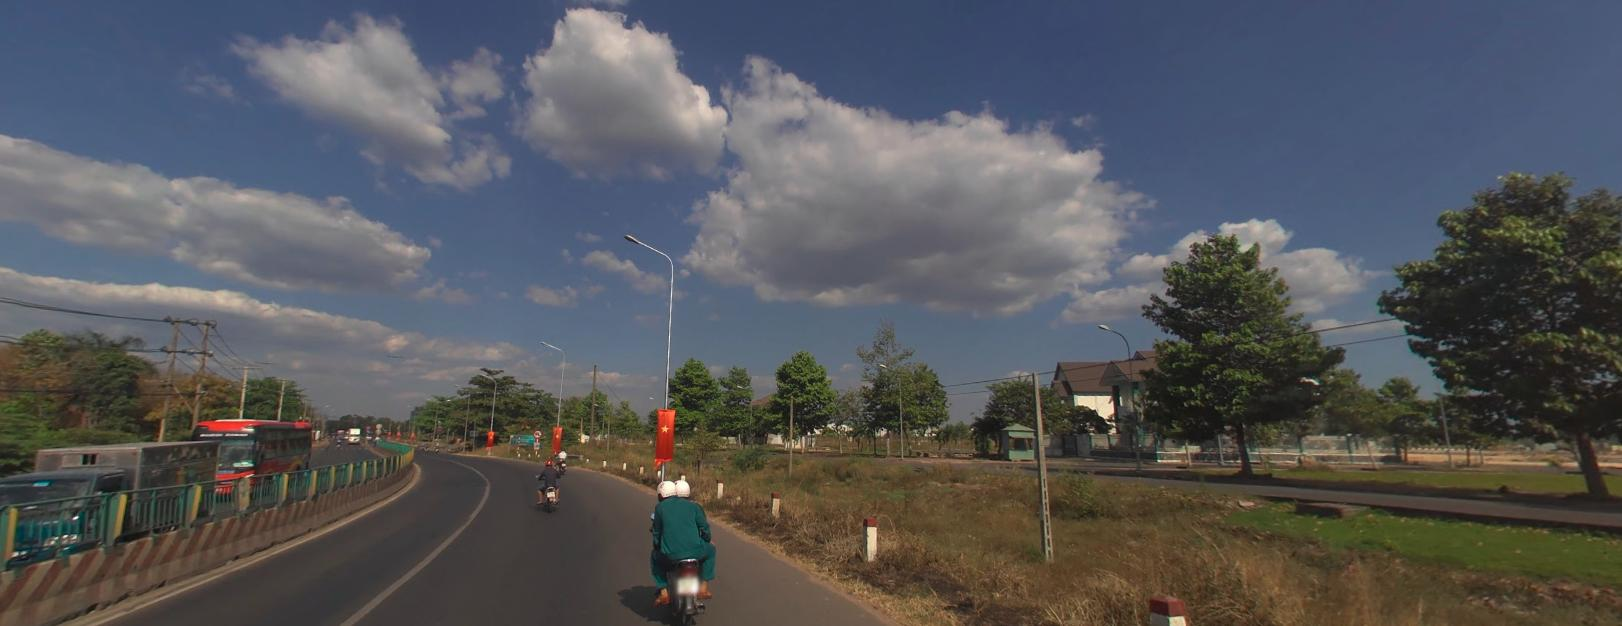Cam con lai: (533, 428, 541, 436)
Cam re: (533, 428, 541, 436)
